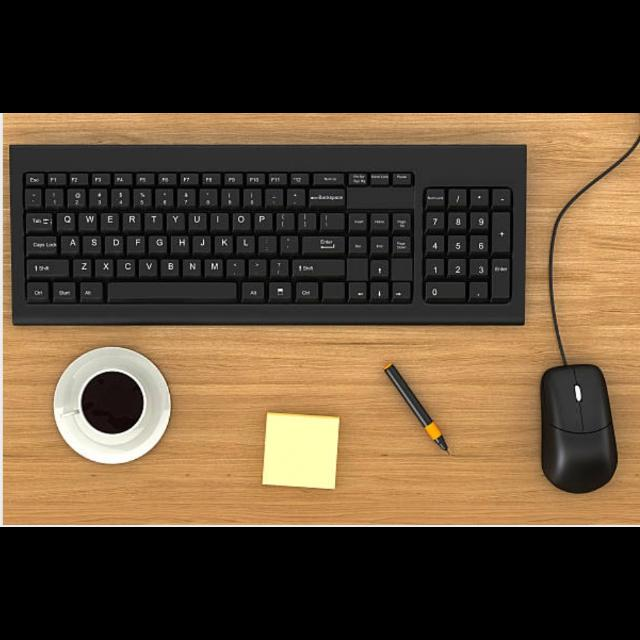Computer-Keyboard: (3, 143, 532, 330)
Computer-Mouse: (541, 365, 619, 496)
